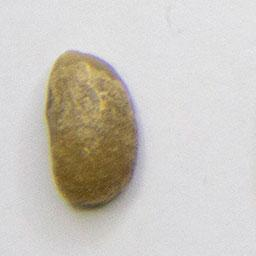longberry: (42, 46, 144, 211)
